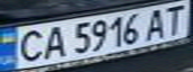1: (106, 14, 127, 47)
5: (69, 19, 93, 55)
6: (121, 10, 148, 45)
9: (87, 17, 112, 52)
A: (39, 24, 69, 60), (142, 6, 172, 39)
C: (9, 27, 48, 64)
T: (157, 2, 190, 36)
